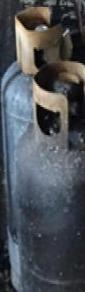cylinder: (1, 1, 85, 292)
